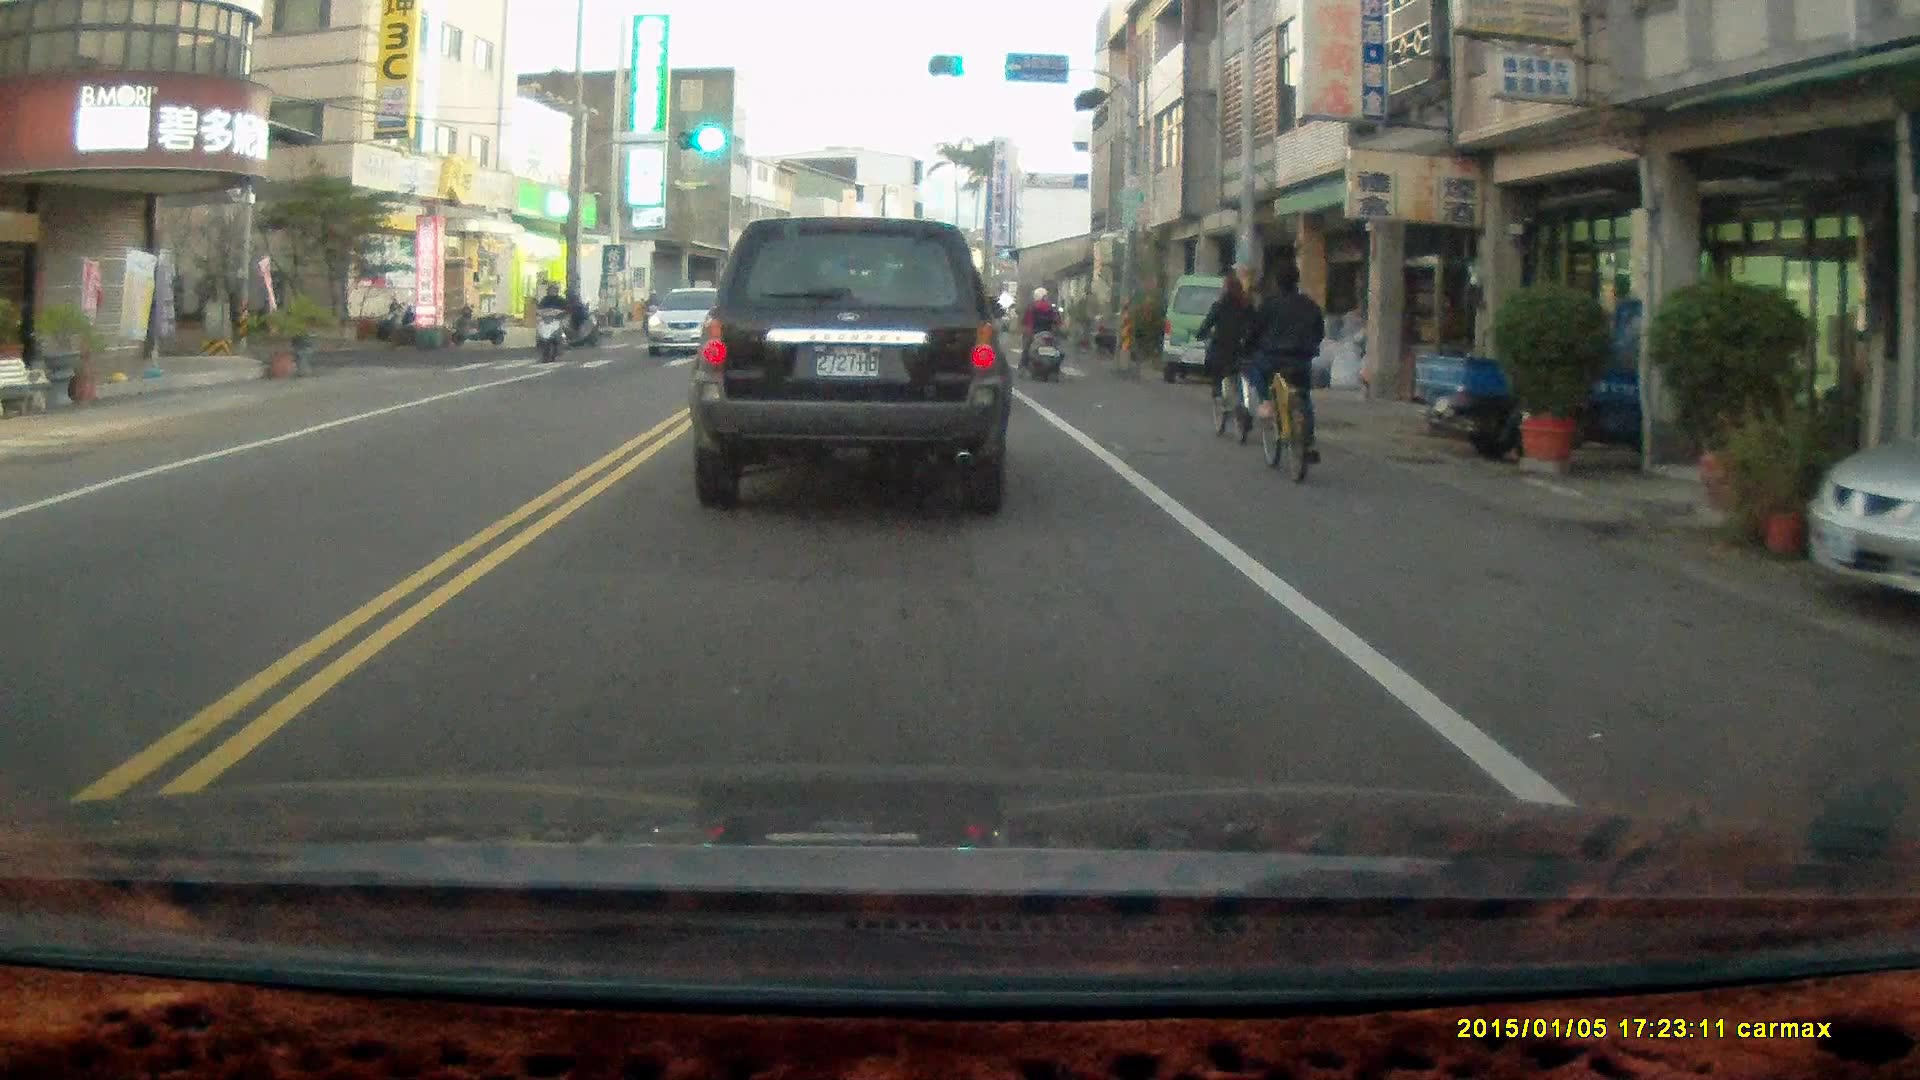rider: (1238, 256, 1324, 483), (1195, 276, 1257, 440), (1013, 282, 1067, 382), (528, 278, 567, 364), (553, 288, 600, 348), (639, 285, 664, 337)
vehicle: (689, 214, 1015, 510), (1804, 438, 1920, 601), (1164, 277, 1267, 379), (647, 287, 741, 360)
